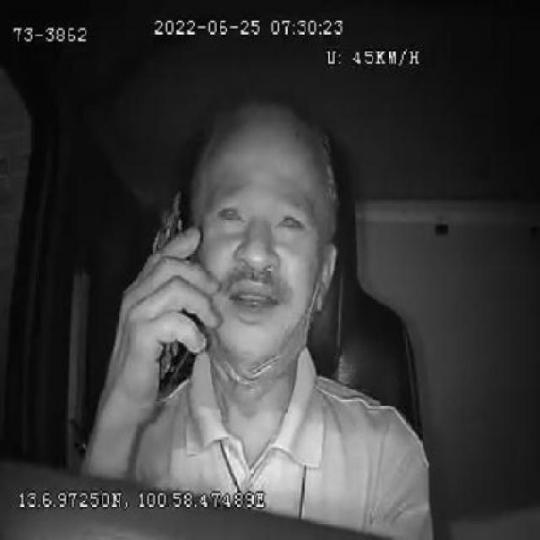phone: (149, 186, 201, 389)
